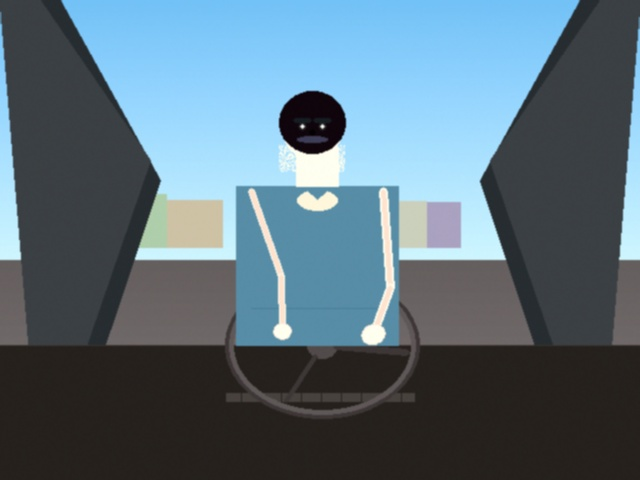normal_driving: (96, 177, 322, 345)
